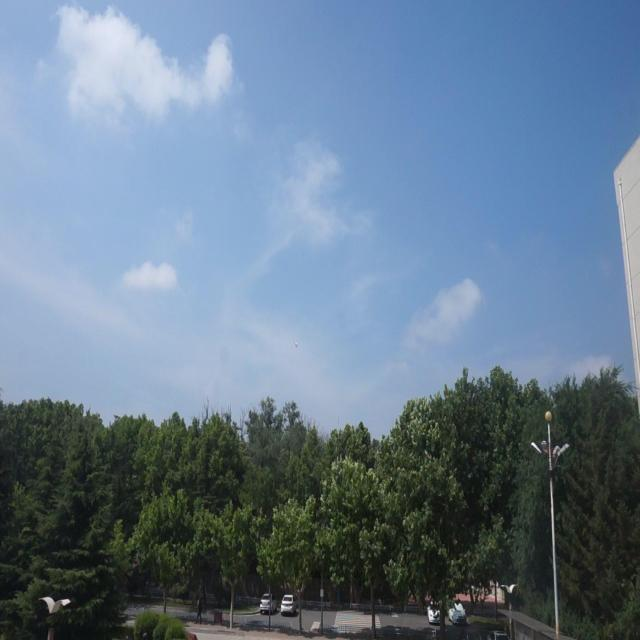drone: (291, 336, 300, 348)
